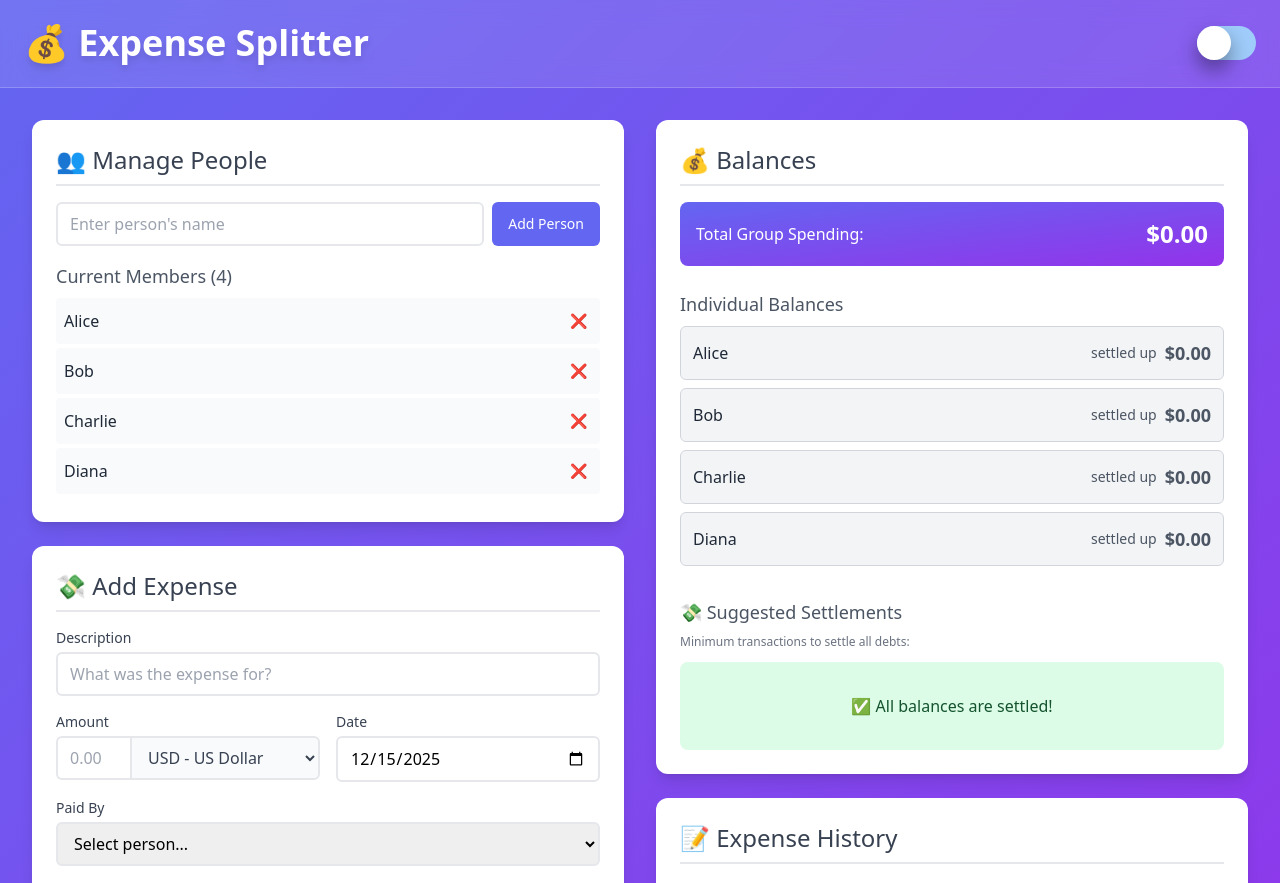
Data Flow & State Management › updates BalanceView when an expense is added
The image size is (1280, 883).
Type "Test Expense" into the field with placeholder "What was the expense for?".
click(328, 674); type("Test Expense")  # box left=56, top=652, right=600, bottom=696
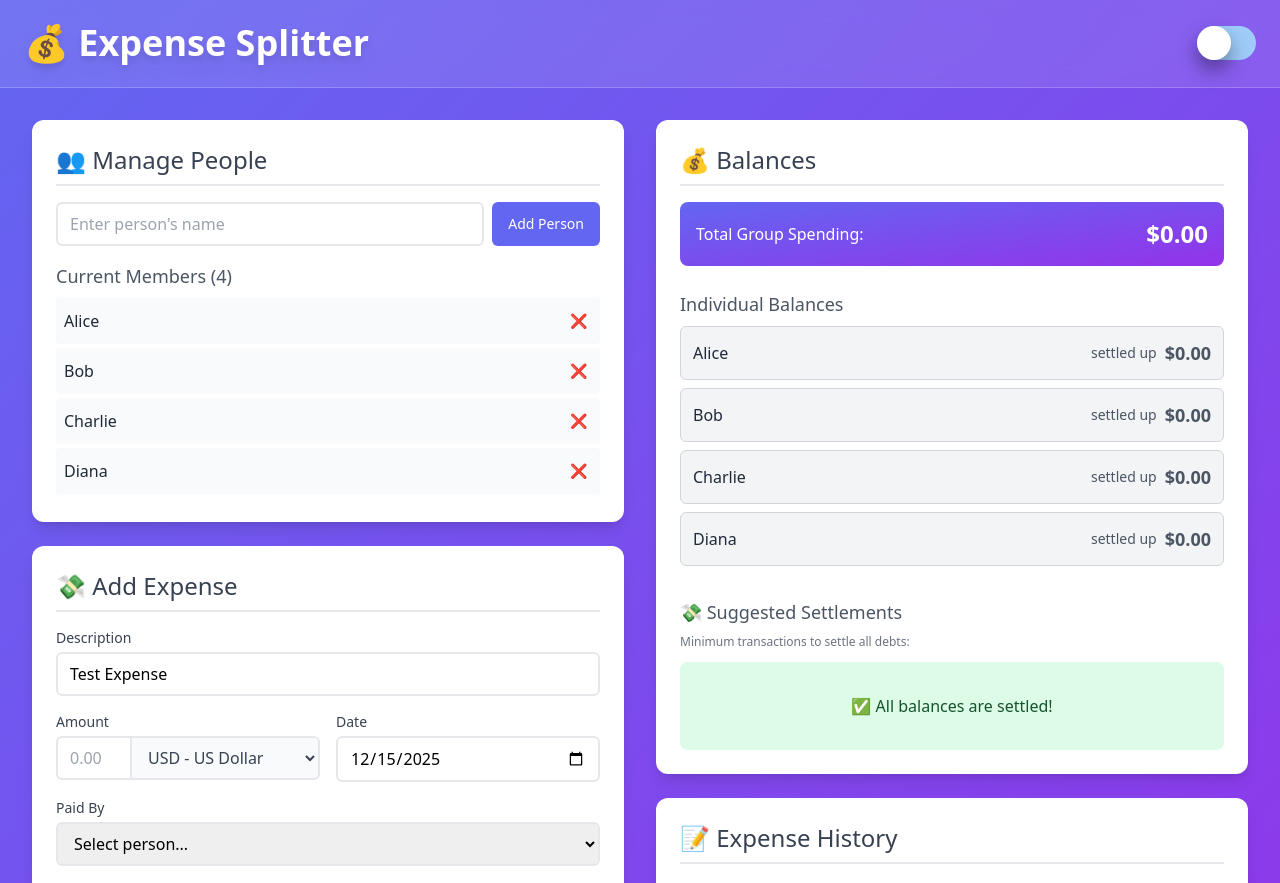
Type "100" into the number field with placeholder "0.00".
click(93, 758); type("100")  # box left=56, top=736, right=130, bottom=780
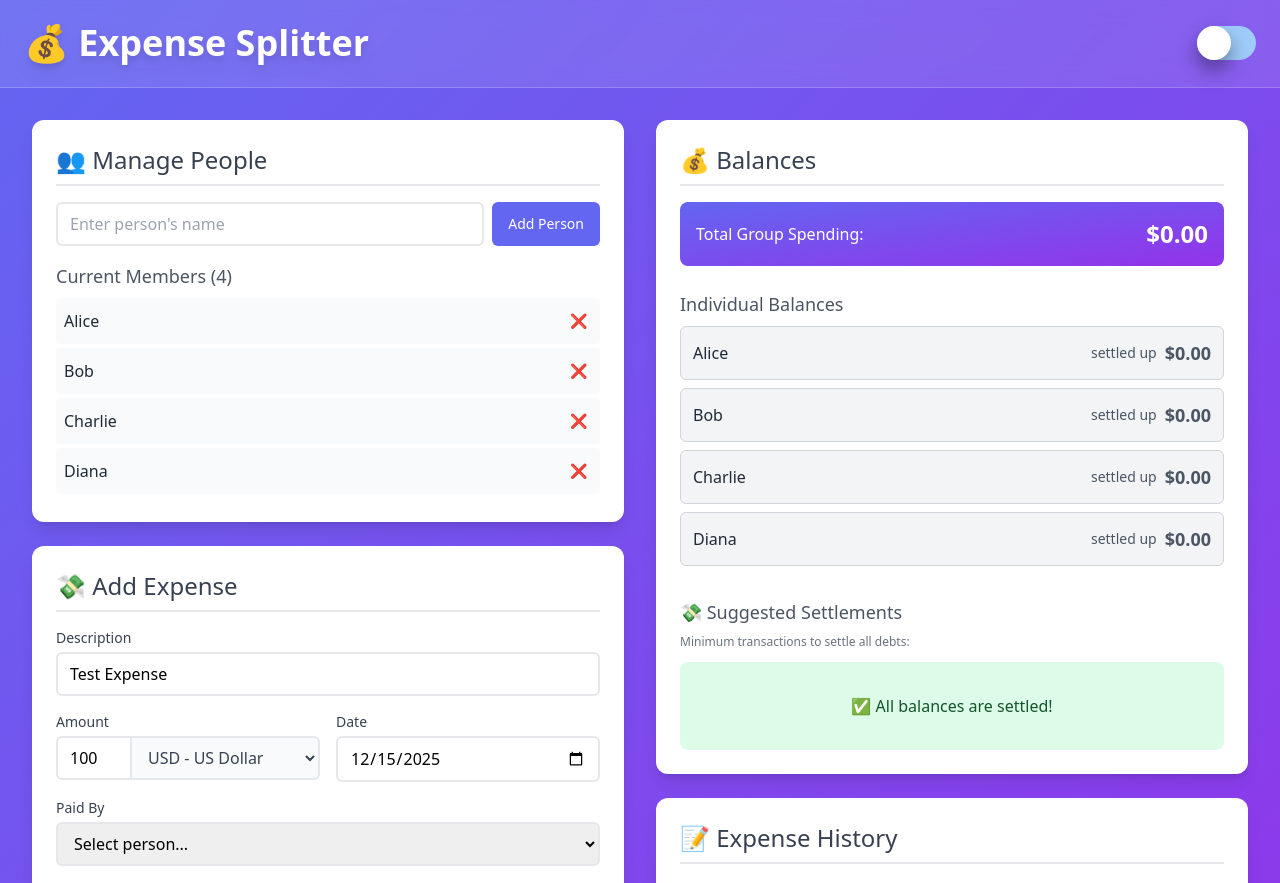
Select "Alice" in the dropdown labelled "Paid By" at (328,844), box left=56, top=822, right=600, bottom=866
(page scrolled)
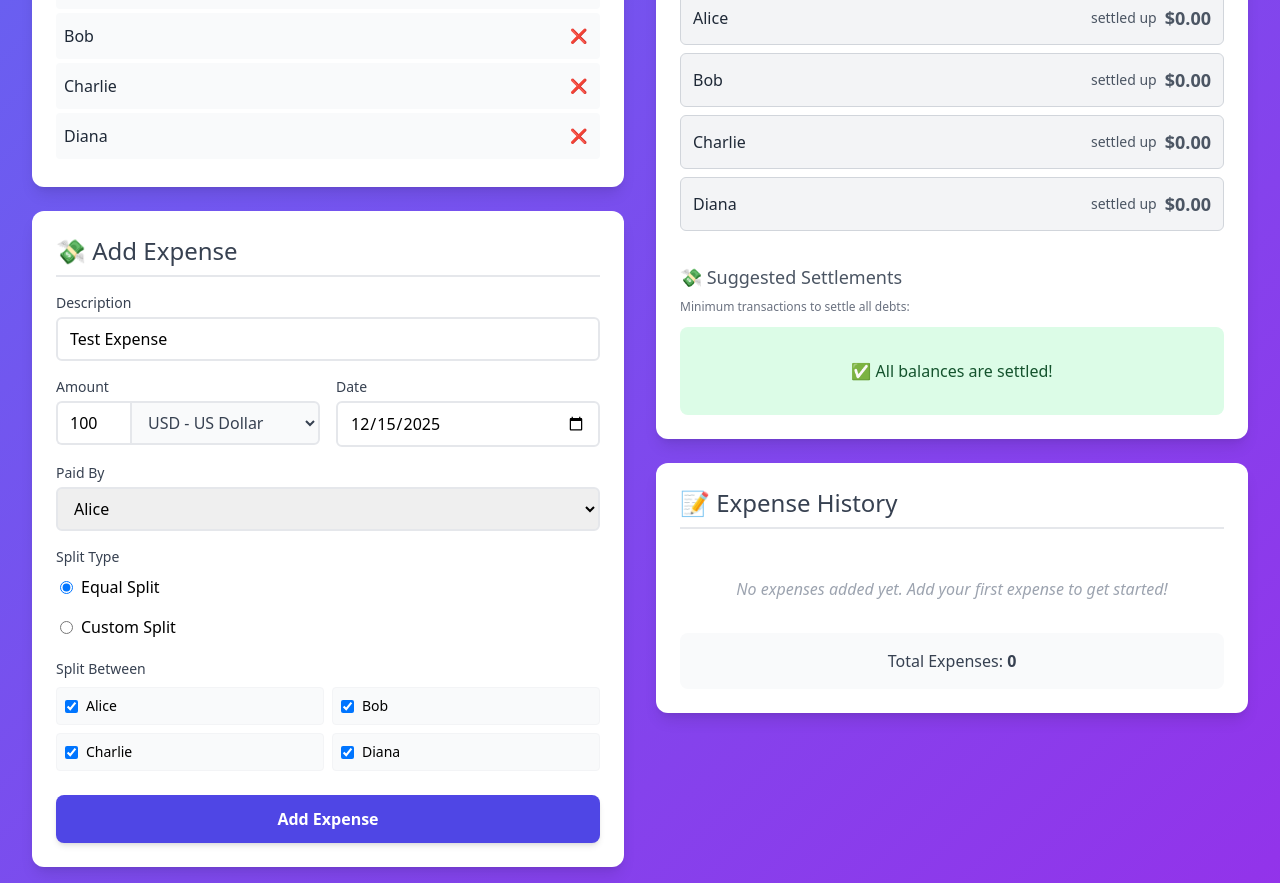
Click the button "Add Expense".
click(328, 819)  # box left=56, top=795, right=600, bottom=843
(page scrolled)
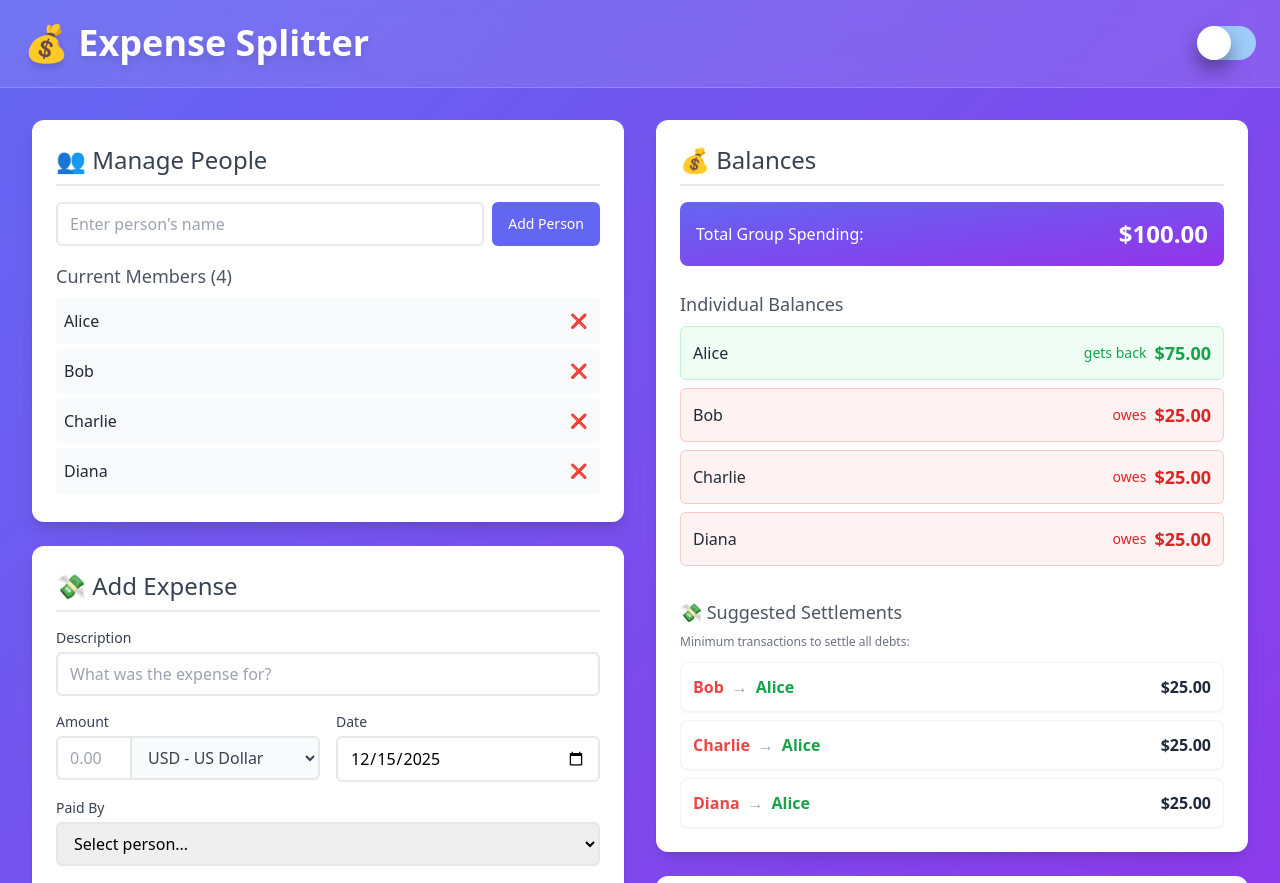
Now the text "Alice" shows "$75.00", box left=680, top=326, right=1224, bottom=380
